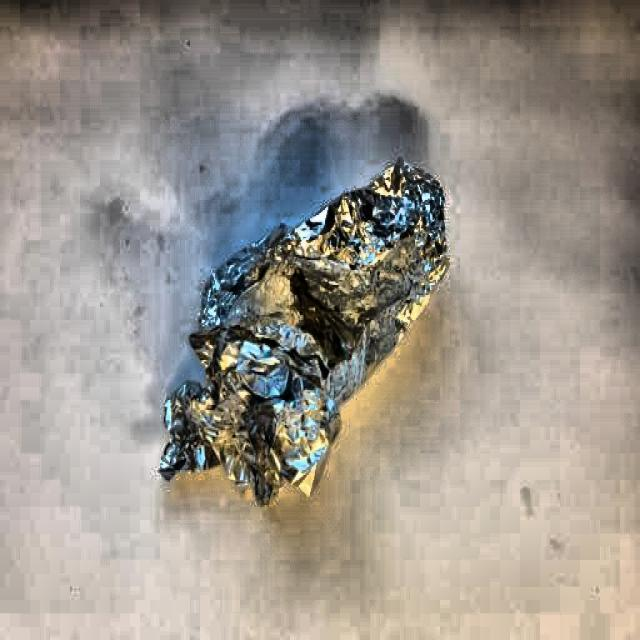metal: (160, 157, 452, 497)
